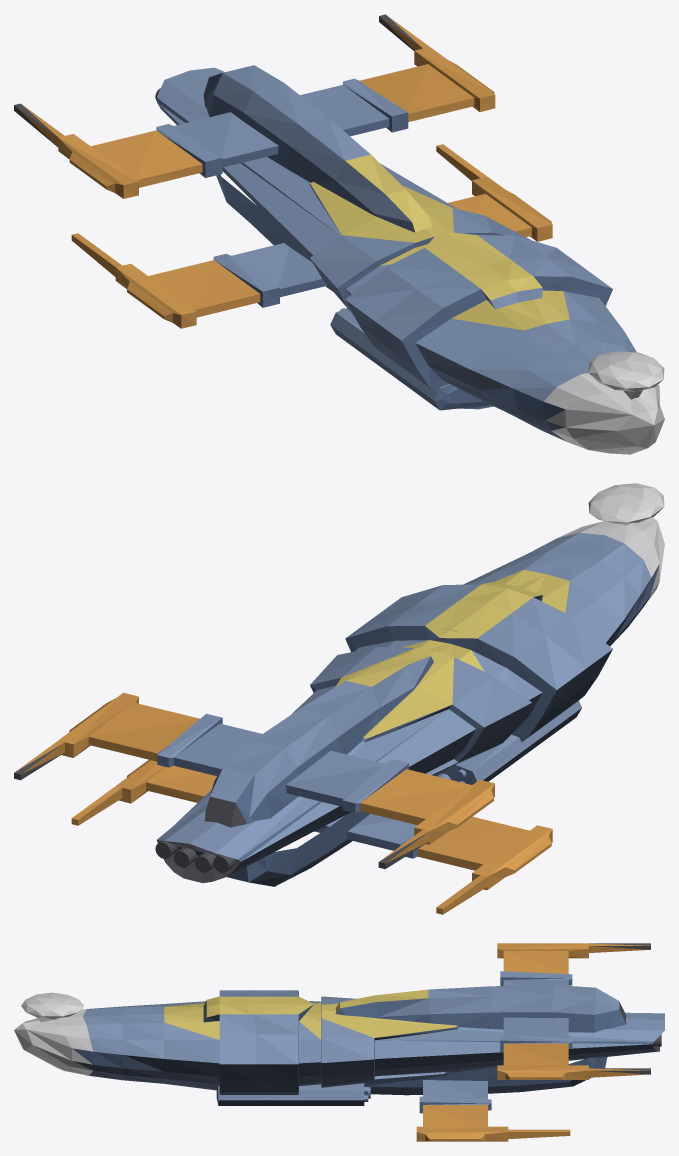
The model's file is ship.glb.
3 views of the same model, one above another, from view 1: azimuth 30°, elevation 25°; view 2: azimuth 150°, elevation 25°; view 3: azimuth 270°, elevation 25° (orthographic). The views are drawn at different scales.
Visible parts, largest first — view 1: geometry_0; view 2: geometry_0; view 3: geometry_0.
Boxes of the visible parts, left/top/right/bottom form: geometry_0: left=14, top=14, right=664, bottom=454; geometry_0: left=14, top=483, right=664, bottom=914; geometry_0: left=14, top=943, right=664, bottom=1141.
Bounding box in the file's own units: 9.64 × 3.5 × 20.
